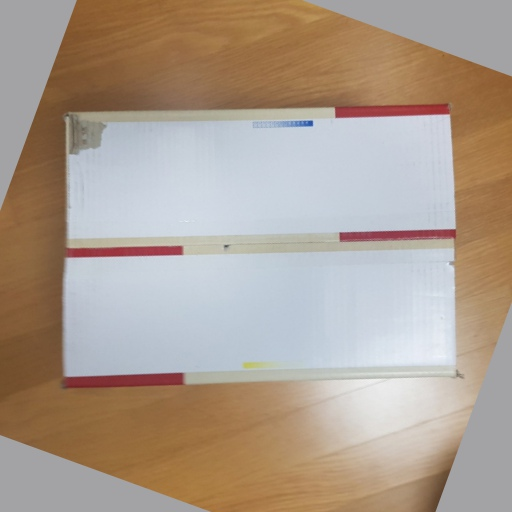Paper_0: (54, 101, 471, 391)
